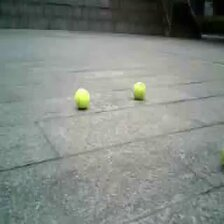tennis: (75, 87, 90, 108), (132, 81, 146, 99)
